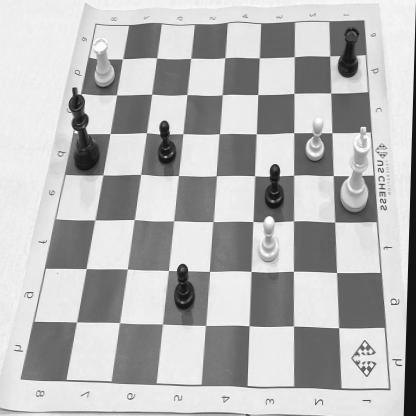black-king: (64, 84, 106, 178)
black-pawn: (172, 256, 204, 317), (154, 115, 184, 170), (262, 158, 292, 209)
black-rook: (334, 22, 366, 84)
white-king: (336, 120, 380, 218)
white-pawn: (255, 214, 286, 268), (301, 114, 330, 167)
white-rook: (90, 33, 120, 95)
